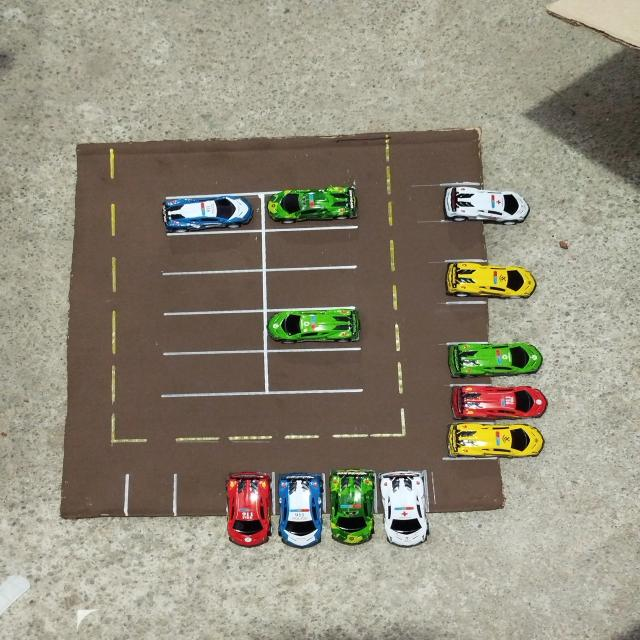libre: (159, 226, 264, 273), (155, 351, 268, 394), (157, 309, 263, 353), (262, 349, 359, 395), (159, 270, 263, 312), (262, 264, 359, 309), (262, 226, 359, 269), (55, 470, 123, 518), (432, 297, 497, 345), (174, 469, 227, 520), (430, 221, 491, 259), (125, 470, 175, 514)
no_estacionarse: (431, 460, 514, 519)
ocupado: (144, 192, 264, 233), (260, 186, 360, 231), (262, 308, 359, 351), (375, 463, 441, 515), (432, 258, 497, 305), (437, 337, 497, 385), (429, 179, 492, 223), (223, 468, 273, 522), (439, 419, 499, 463), (324, 472, 380, 516), (275, 468, 324, 514), (441, 382, 494, 421)
